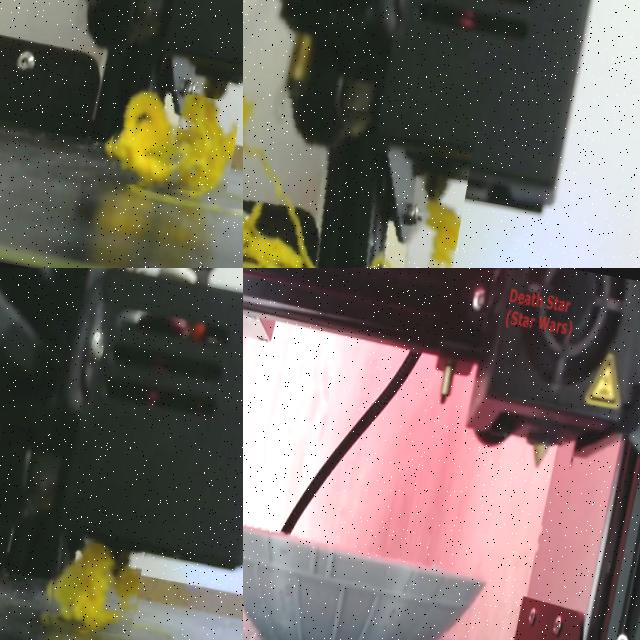spaghetti: (110, 92, 236, 194), (50, 542, 139, 631)
